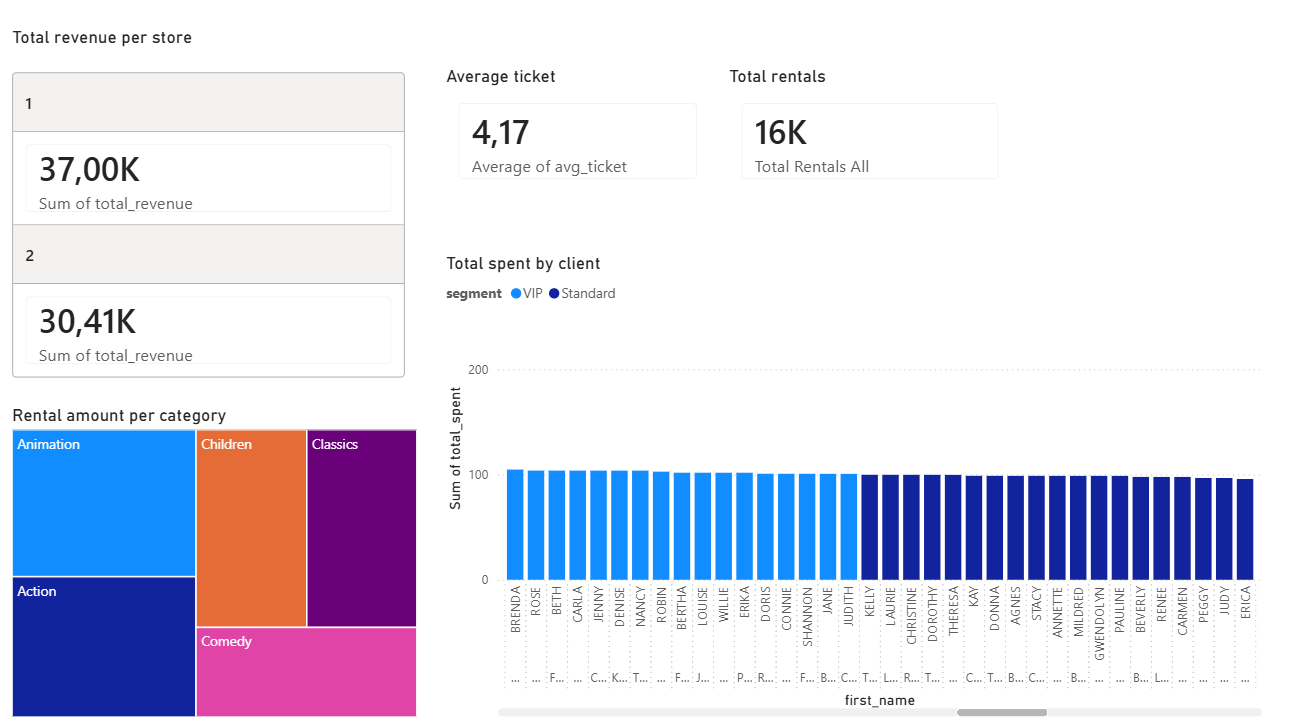

The page's visual inventory and layout, read from the dashboard file:
{"tool":"powerbi","page":{"name":"Page 1","canvas":[1280,720],"ordinal":0},"visuals":[{"type":"columnChart","title":"Total spent by client","fields":{"Category":["v_customer_segmentation.last_name","v_customer_segmentation.first_name"],"Y":["Sum(v_customer_segmentation.total_spent)"],"Series":["v_customer_segmentation.segment"]},"box":[432.8,251.9,803.4,456.2],"z":0},{"type":"cardVisual","title":"Total revenue per store","fields":{"Data":["Sum(v_store_kpi.total_revenue)"],"Rows":["v_store_kpi.store_id"]},"box":[10.7,32.1,392.9,367.7],"z":1000},{"type":"cardVisual","title":"Total rentals","fields":{"Data":["v_store_kpi.Total Rentals"]},"box":[708.1,70,284,127.4],"z":2000},{"type":"cardVisual","title":"Average ticket","fields":{"Data":["Avg(v_customer_features.avg_ticket)"]},"box":[432.8,70,266.5,127.4],"z":3000},{"type":"treemap","title":"Rental amount per category","fields":{"Group":["v_film_performance.category"],"Values":["Sum(v_film_performance.rentals_count)"]},"box":[0,399.8,403.6,308.3],"z":4000}]}

Visuals, with their boxes in screenshot pixels (x1, y1, x2, y2), scaled from the page's 1280x720 canvas onto the 1303x727 screenshot:
"Total spent by client" columnChart: 441/254/1258/715
"Total revenue per store" cardVisual: 11/32/411/404
"Total rentals" cardVisual: 721/71/1010/199
"Average ticket" cardVisual: 441/71/712/199
"Rental amount per category" treemap: 0/404/411/715
